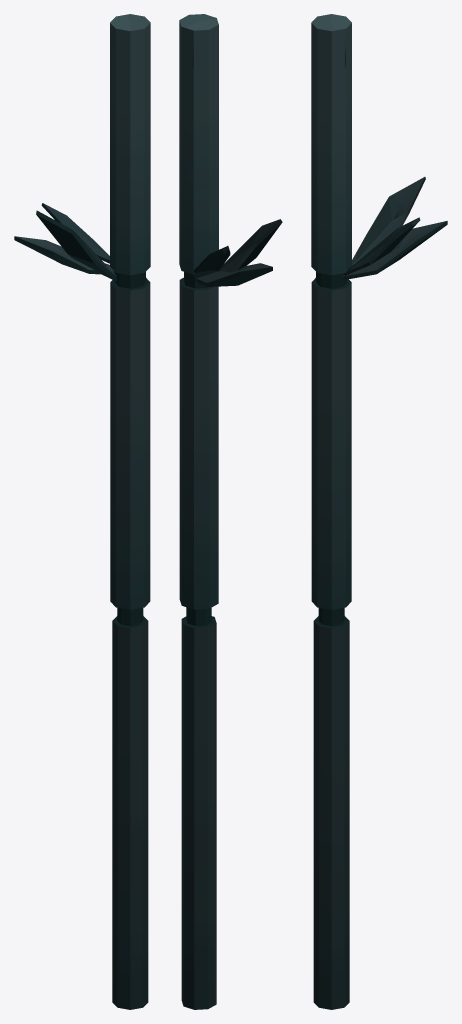
File: Bambu 4.obj
The picture shows the model from 3 angles, left to right: view 1: azimuth 90°, elevation 25°; view 2: azimuth 210°, elevation 25°; view 3: azimuth 270°, elevation 25°; orthographic projection.
Visible parts, largest first — view 1: Bambu 4; view 2: Bambu 4; view 3: Bambu 4.
Boxes of the visible parts, left/top/right/bottom form: Bambu 4: left=14, top=14, right=150, bottom=1009; Bambu 4: left=179, top=14, right=282, bottom=1009; Bambu 4: left=311, top=14, right=447, bottom=1009.
Size of the model in its own units: 0.0933 by 1.44 by 0.1824.
